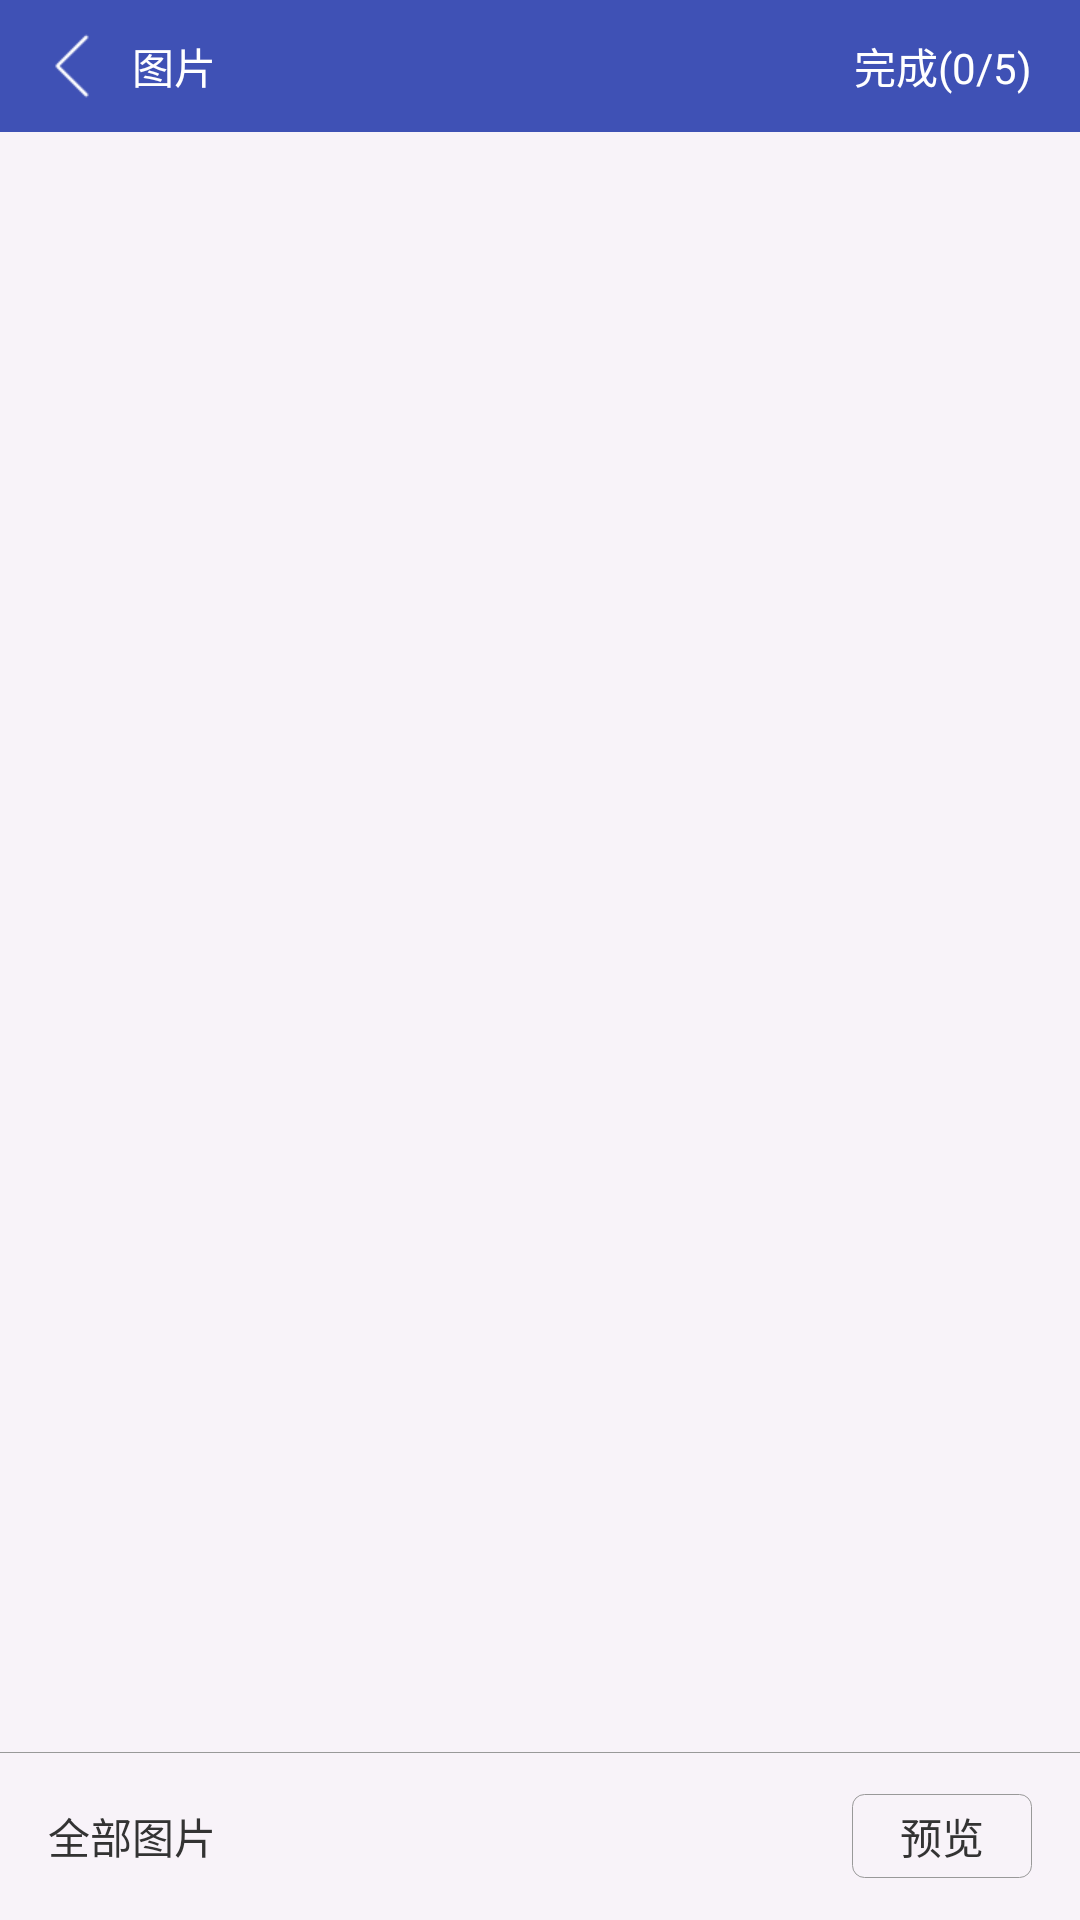

Icon click points for this 1080 × 1920 phone screenshot, format [x,y]:
back: [72,66]
